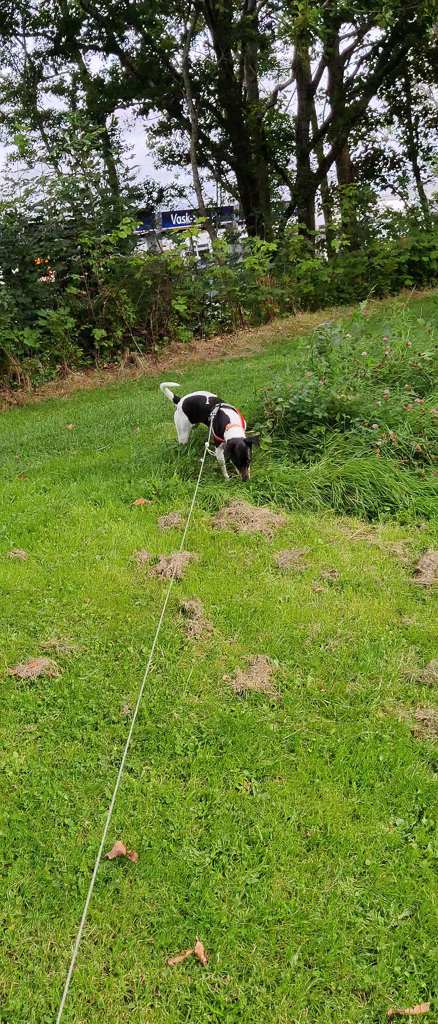Dog: (152, 377, 268, 487)
